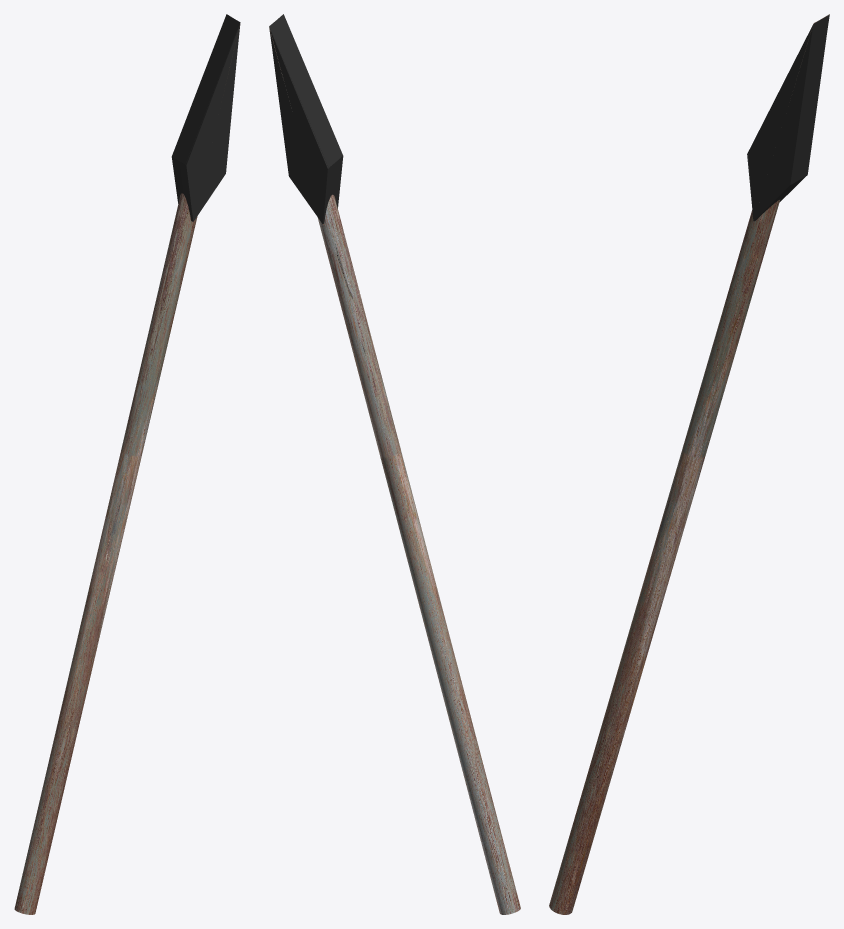
File: Spear (single) Textured.fbx
3 views of the same model, side by side, from view 1: azimuth 30°, elevation 25°; view 2: azimuth 150°, elevation 25°; view 3: azimuth 330°, elevation 25° (orthographic). The views are drawn at different scales.
Visible parts, largest first — view 1: Cylinder006, Object; view 2: Cylinder006, Object; view 3: Cylinder006, Object.
Part boxes in pixels (x1,y1,x2,y2): Cylinder006: [14, 25, 239, 914]; Object: [171, 14, 240, 221]; Cylinder006: [269, 28, 520, 914]; Object: [269, 14, 343, 224]; Cylinder006: [549, 14, 829, 914]; Object: [747, 15, 829, 221].
Size of the model in its own units: 86.46 by 302 by 15.36.
Materials: 2 (1 with a texture image).
